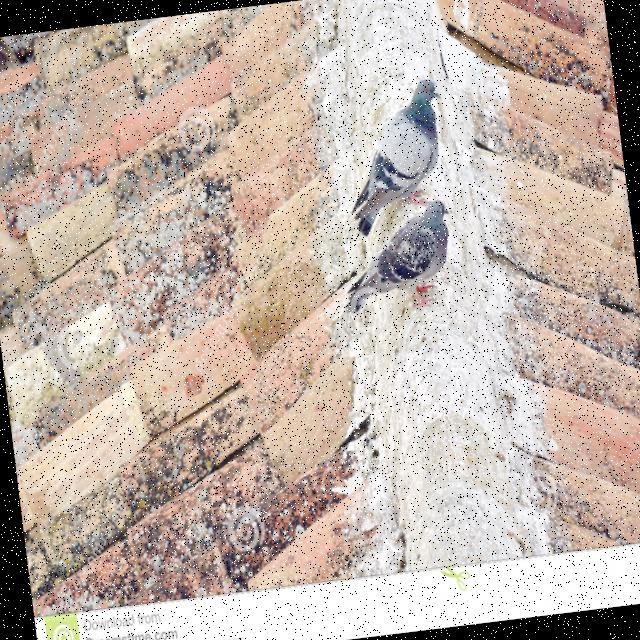bird: (334, 74, 458, 238), (333, 196, 463, 322)
